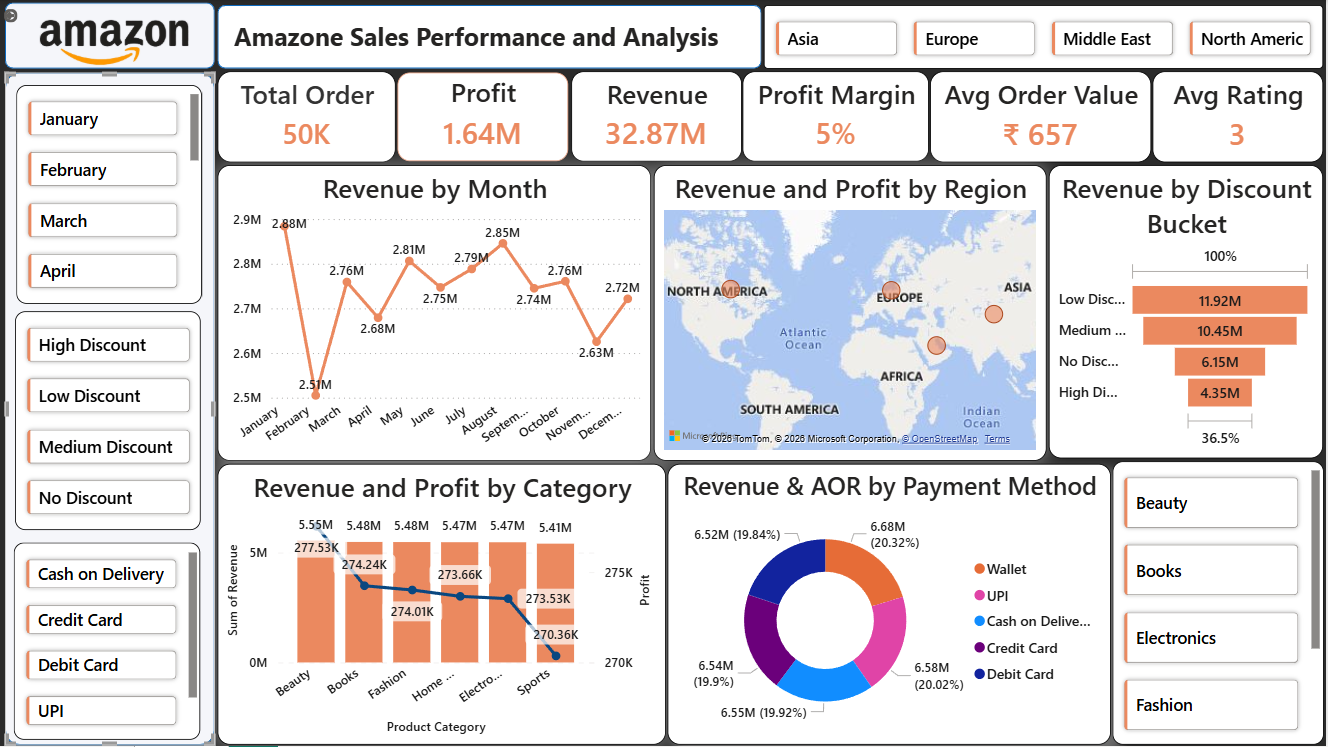

What the dashboard file says about the page in this screenshot:
{"tool":"powerbi","page":{"name":"Page 1","canvas":[1280,720],"ordinal":0},"visuals":[{"type":"shape","box":[4.9,2.5,202.5,63.8],"z":0},{"type":"image","box":[8.6,4.9,203.7,66.3],"z":1000},{"type":"shape","box":[209.8,4.9,525.2,61.4],"z":2000},{"type":"card","title":"Revenue","fields":{"Values":["Sum(amazon_sales (2).total_sell)"]},"box":[550.9,68.7,164.4,87.1],"z":3000},{"type":"card","title":"Profit Margin","fields":{"Values":["amazon_sales (2).Profit Margin"]},"box":[716.6,68.7,180.4,87.1],"z":4000},{"type":"card","title":"Avg Rating","fields":{"Values":["Avg(amazon_sales (2).rating)"]},"box":[1112.9,68.7,164.4,88.3],"z":5000},{"type":"card","title":"Profit","fields":{"Values":["Sum(amazon_sales (2).profit)"]},"box":[384.1,69.9,164.4,85.9],"z":6000},{"type":"card","title":"Total Order","fields":{"Values":["CountNonNull(amazon_sales (2).order_id)"]},"box":[209.8,68.7,171.8,88.3],"z":7000},{"type":"card","title":"Avg Order Value","fields":{"Values":["amazon_sales (2).avg_order_value"]},"box":[898.2,68.7,213.5,88.3],"z":8000},{"type":"advancedSlicerVisual","fields":{"Values":["amazon_sales (2).customer_region"]},"box":[737.4,4.9,539.9,61.4],"z":9000},{"type":"textbox","box":[220.9,14.7,504.3,47.9],"z":10000},{"type":"shape","box":[4.9,69.9,202.5,649.1],"z":10000,"group":"g1"},{"type":"lineChart","title":"Revenue by Month","fields":{"Category":["amazon_sales (2).order_date.Variation.Date Hierarchy.Month"],"Y":["Sum(amazon_sales (2).total_sell)"]},"box":[209.8,159.5,418.4,285.9],"z":12000},{"type":"actionButton","box":[0,4.8,98.9,20.5],"z":13000},{"type":"map","title":"Revenue and Profit by Region","fields":{"Category":["amazon_sales (2).customer_region"],"Size":["Sum(amazon_sales (2).total_sell)"]},"box":[630.7,159.5,379.1,285.9],"z":14000},{"type":"lineClusteredColumnComboChart","title":"Revenue and Profit by Category","fields":{"Category":["amazon_sales (2).product_category"],"Y2":["Sum(amazon_sales (2).profit)"],"Y":["Sum(amazon_sales (2).total_sell)"]},"box":[209.8,447.9,433.1,271.2],"z":15000},{"type":"donutChart","title":"Revenue & AOR by Payment Method","fields":{"Y":["Sum(amazon_sales (2).total_sell)"],"Category":["amazon_sales (2).payment_method"]},"box":[644.2,447.9,428.2,271.2],"z":16000},{"type":"funnel","title":"Revenue by Discount Bucket","fields":{"Category":["amazon_sales (2).discount_status"],"Y":["Sum(amazon_sales (2).total_sell)"]},"box":[1012.3,159.5,265,283.4],"z":17000},{"type":"advancedSlicerVisual","fields":{"Values":["amazon_sales (2).discount_status"]},"box":[14.7,300.6,179.1,211],"z":19000,"group":"g1"},{"type":"advancedSlicerVisual","fields":{"Values":["amazon_sales (2).payment_method"]},"box":[13.6,524,180.4,190.2],"z":20000,"group":"g1"},{"type":"advancedSlicerVisual","fields":{"Values":["amazon_sales (2).order_date.Variation.Date Hierarchy.Month"]},"box":[15.7,82.2,179.1,211],"z":21000,"group":"g1"},{"type":"advancedSlicerVisual","fields":{"Values":["amazon_sales (2).product_category"]},"box":[1073.6,445.4,203.7,273.6],"z":21000},{"type":"group","id":"g1","title":"Group 1","box":[4.9,69.9,202.5,649.1],"z":21501}]}

Visuals, with their boxes in screenshot pixels (x1, y1, x2, y2), scaled from the page's 1280x720 canvas onto the 1328x747 screenshot:
shape: left=5, top=3, right=215, bottom=69
image: left=9, top=5, right=220, bottom=74
shape: left=218, top=5, right=763, bottom=69
"Revenue" card: left=572, top=71, right=742, bottom=162
"Profit Margin" card: left=743, top=71, right=931, bottom=162
"Avg Rating" card: left=1155, top=71, right=1325, bottom=163
"Profit" card: left=399, top=73, right=569, bottom=162
"Total Order" card: left=218, top=71, right=396, bottom=163
"Avg Order Value" card: left=932, top=71, right=1153, bottom=163
advancedSlicerVisual - amazon_sales (2).customer_region: left=765, top=5, right=1325, bottom=69
textbox: left=229, top=15, right=752, bottom=65
shape: left=5, top=73, right=215, bottom=746
"Revenue by Month" lineChart: left=218, top=165, right=652, bottom=462
actionButton: left=0, top=5, right=103, bottom=26
"Revenue and Profit by Region" map: left=654, top=165, right=1048, bottom=462
"Revenue and Profit by Category" lineClusteredColumnComboChart: left=218, top=465, right=667, bottom=746
"Revenue & AOR by Payment Method" donutChart: left=668, top=465, right=1113, bottom=746
"Revenue by Discount Bucket" funnel: left=1050, top=165, right=1325, bottom=460
advancedSlicerVisual - amazon_sales (2).discount_status: left=15, top=312, right=201, bottom=531
advancedSlicerVisual - amazon_sales (2).payment_method: left=14, top=544, right=201, bottom=741
advancedSlicerVisual - amazon_sales (2).order_date.Variation.Date Hierarchy.Month: left=16, top=85, right=202, bottom=304
advancedSlicerVisual - amazon_sales (2).product_category: left=1114, top=462, right=1325, bottom=746
"Group 1" group: left=5, top=73, right=215, bottom=746
